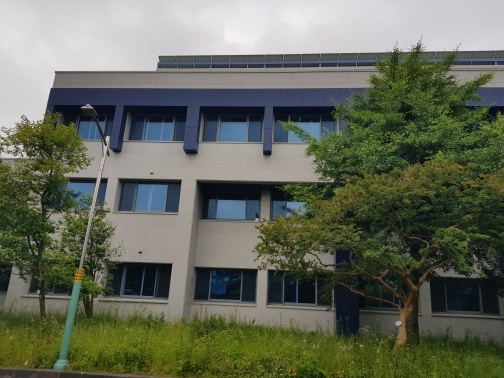College of Social Sciences: (27, 38, 498, 339), (109, 75, 282, 161)
